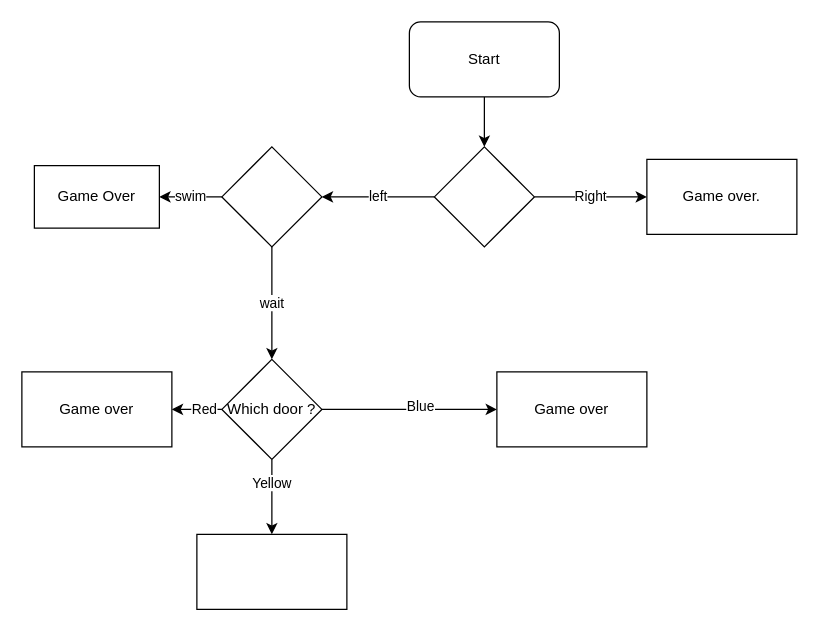
Image size: 819x631. Some labels were removed from this diagram. Here are the shapes that lost their labels. From the top down, the centre of each, then its label:
[271,196]: swim or wait ?
[483,196]: left or right ?
[271,571]: You Win!
